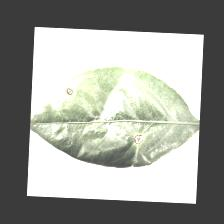canker: (64, 86, 148, 154)
